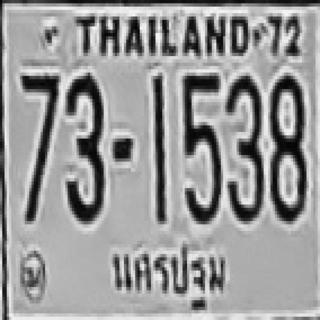N01: (151, 74, 164, 219), (152, 73, 163, 201)
N03: (64, 73, 103, 221), (223, 73, 261, 221)
N05: (181, 73, 220, 221), (181, 72, 220, 204), (181, 73, 220, 191), (180, 73, 219, 158)
N07: (20, 73, 59, 218), (20, 73, 59, 175), (20, 73, 59, 165)
N08: (268, 73, 304, 221)
P28: (111, 240, 231, 313)
